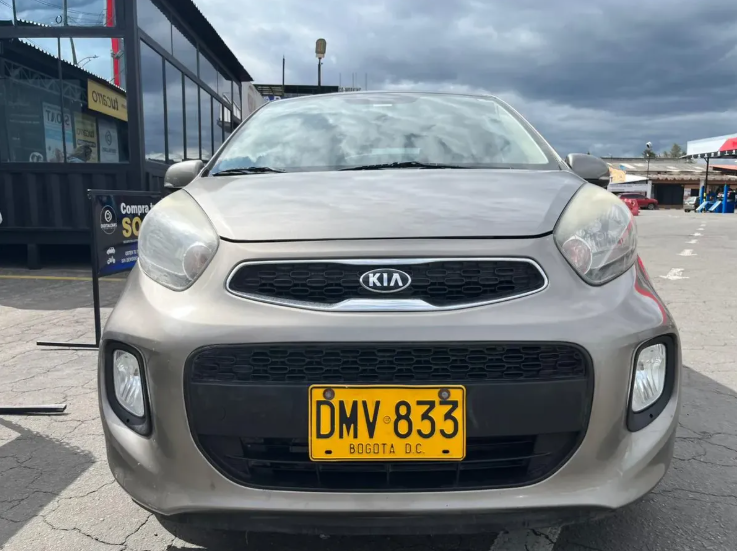placa: (310, 384, 465, 461)
